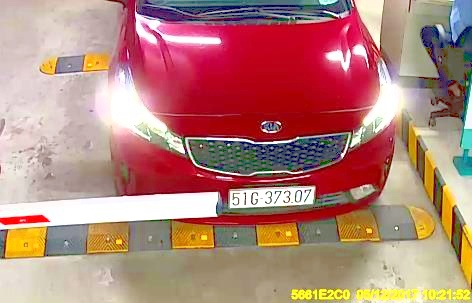plate: (222, 183, 320, 210)
